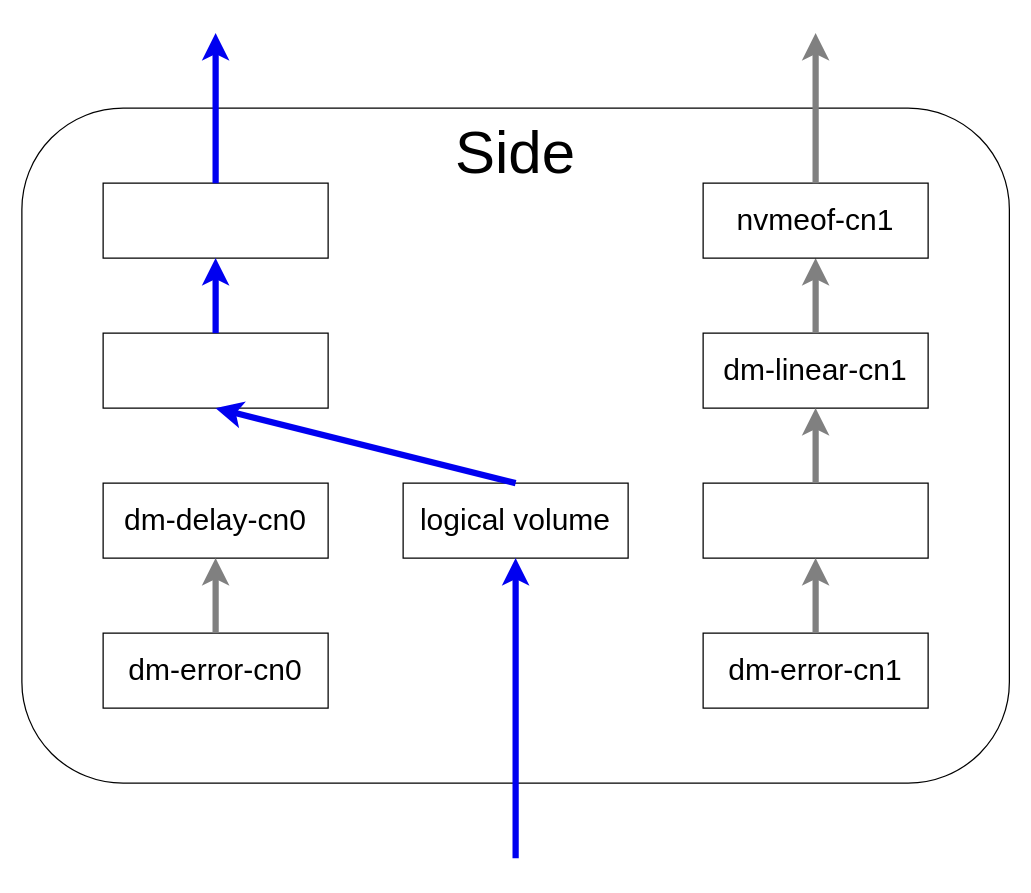
Image size: 1031x893. Some labels were removed from this diagram. Each missing label, with the box of its shape:
dm-delay-cn1: (702, 482, 928, 558)
dm-linear-cn0: (102, 332, 328, 408)
nvmeof-cn0: (102, 182, 328, 258)
